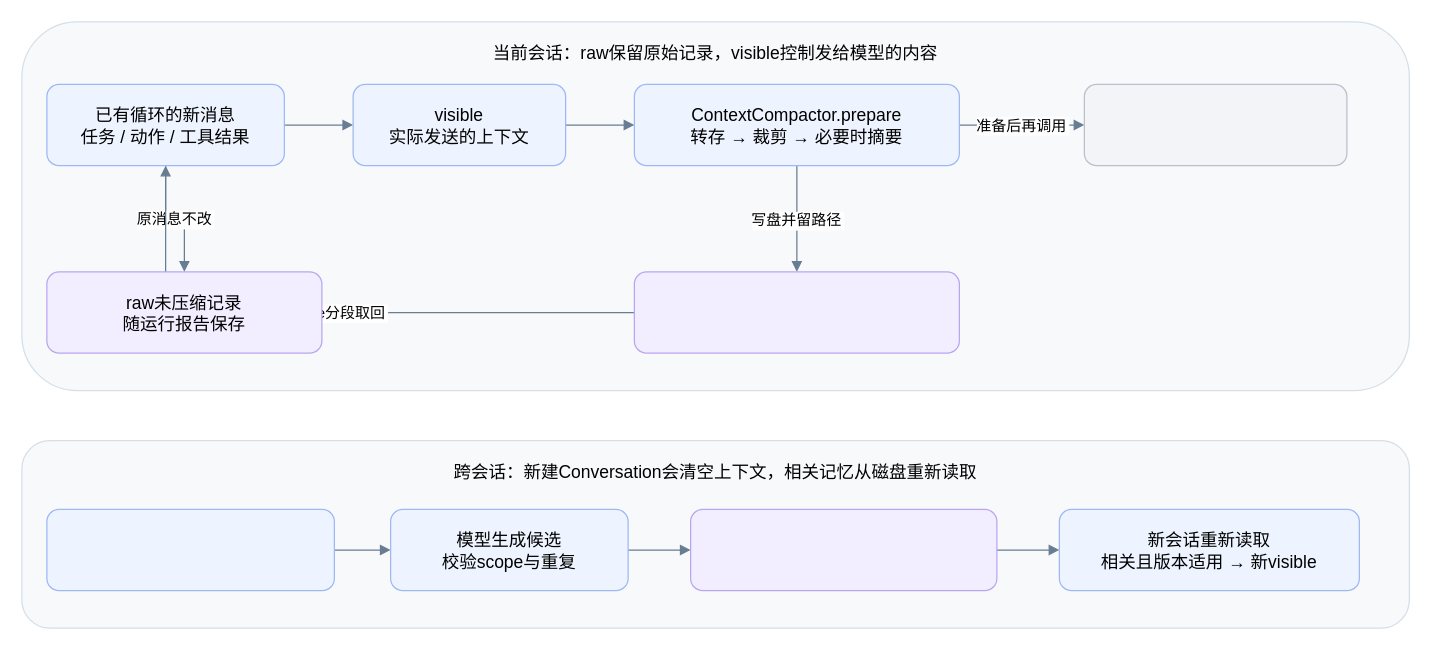
Some shapes in this 1431 by 650 pixel diagram are drawn without their labels. The shapes that lost their labels are listed below. From the top down, each one's centre as x and y in pixels, then its label:
point 1215,124: 宿主机模型 返回下一动作
point 796,312: .task_outputs / .transcripts 结果全文、归档与恢复路径
point 190,549: 用户请求＋最终回答 仅提取值得长期保留的内容
point 843,549: .memory/*.md＋索引 按工作目录持久保存
